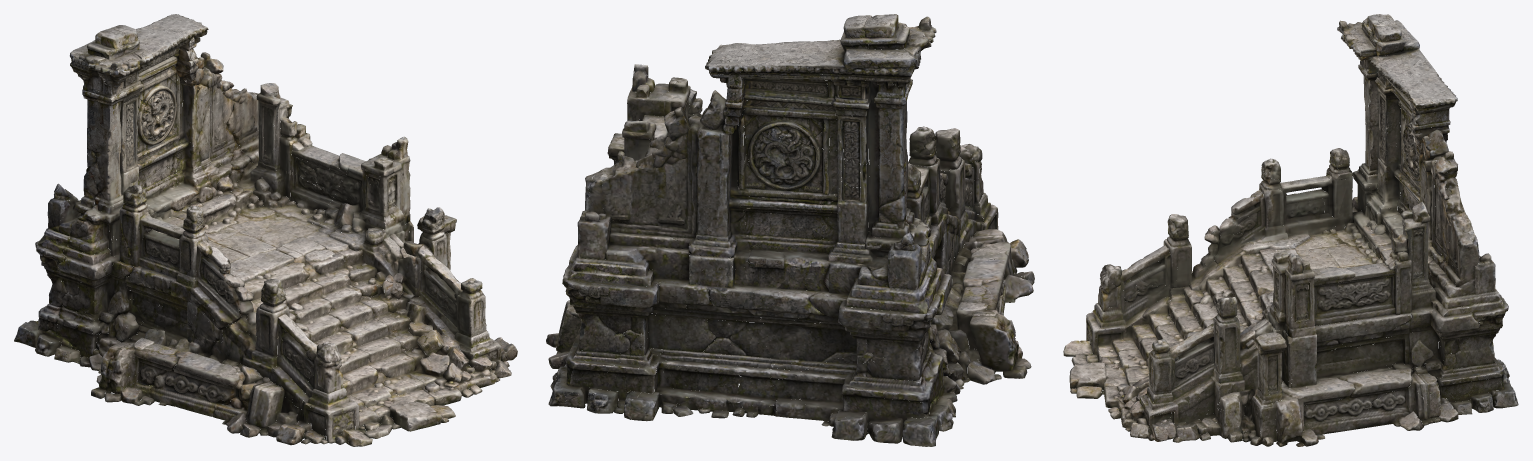
The model's file is ruin-02.glb.
The picture shows the model from 3 angles, left to right: view 1: azimuth 30°, elevation 25°; view 2: azimuth 150°, elevation 25°; view 3: azimuth 270°, elevation 25°; orthographic projection. The views are drawn at different scales.
Visible parts, largest first — view 1: tripo_node_18b9d8f8-ad8e-4be9-bd6e-9790b2573f7d; view 2: tripo_node_18b9d8f8-ad8e-4be9-bd6e-9790b2573f7d; view 3: tripo_node_18b9d8f8-ad8e-4be9-bd6e-9790b2573f7d.
Boxes of the visible parts, bbox=[...] form: tripo_node_18b9d8f8-ad8e-4be9-bd6e-9790b2573f7d: bbox=[14, 14, 517, 446]; tripo_node_18b9d8f8-ad8e-4be9-bd6e-9790b2573f7d: bbox=[546, 14, 1034, 446]; tripo_node_18b9d8f8-ad8e-4be9-bd6e-9790b2573f7d: bbox=[1063, 14, 1518, 446].
Size of the model in its own units: 0.8525 by 0.7044 by 0.9808.
Materials: 1 (1 with a texture image).
